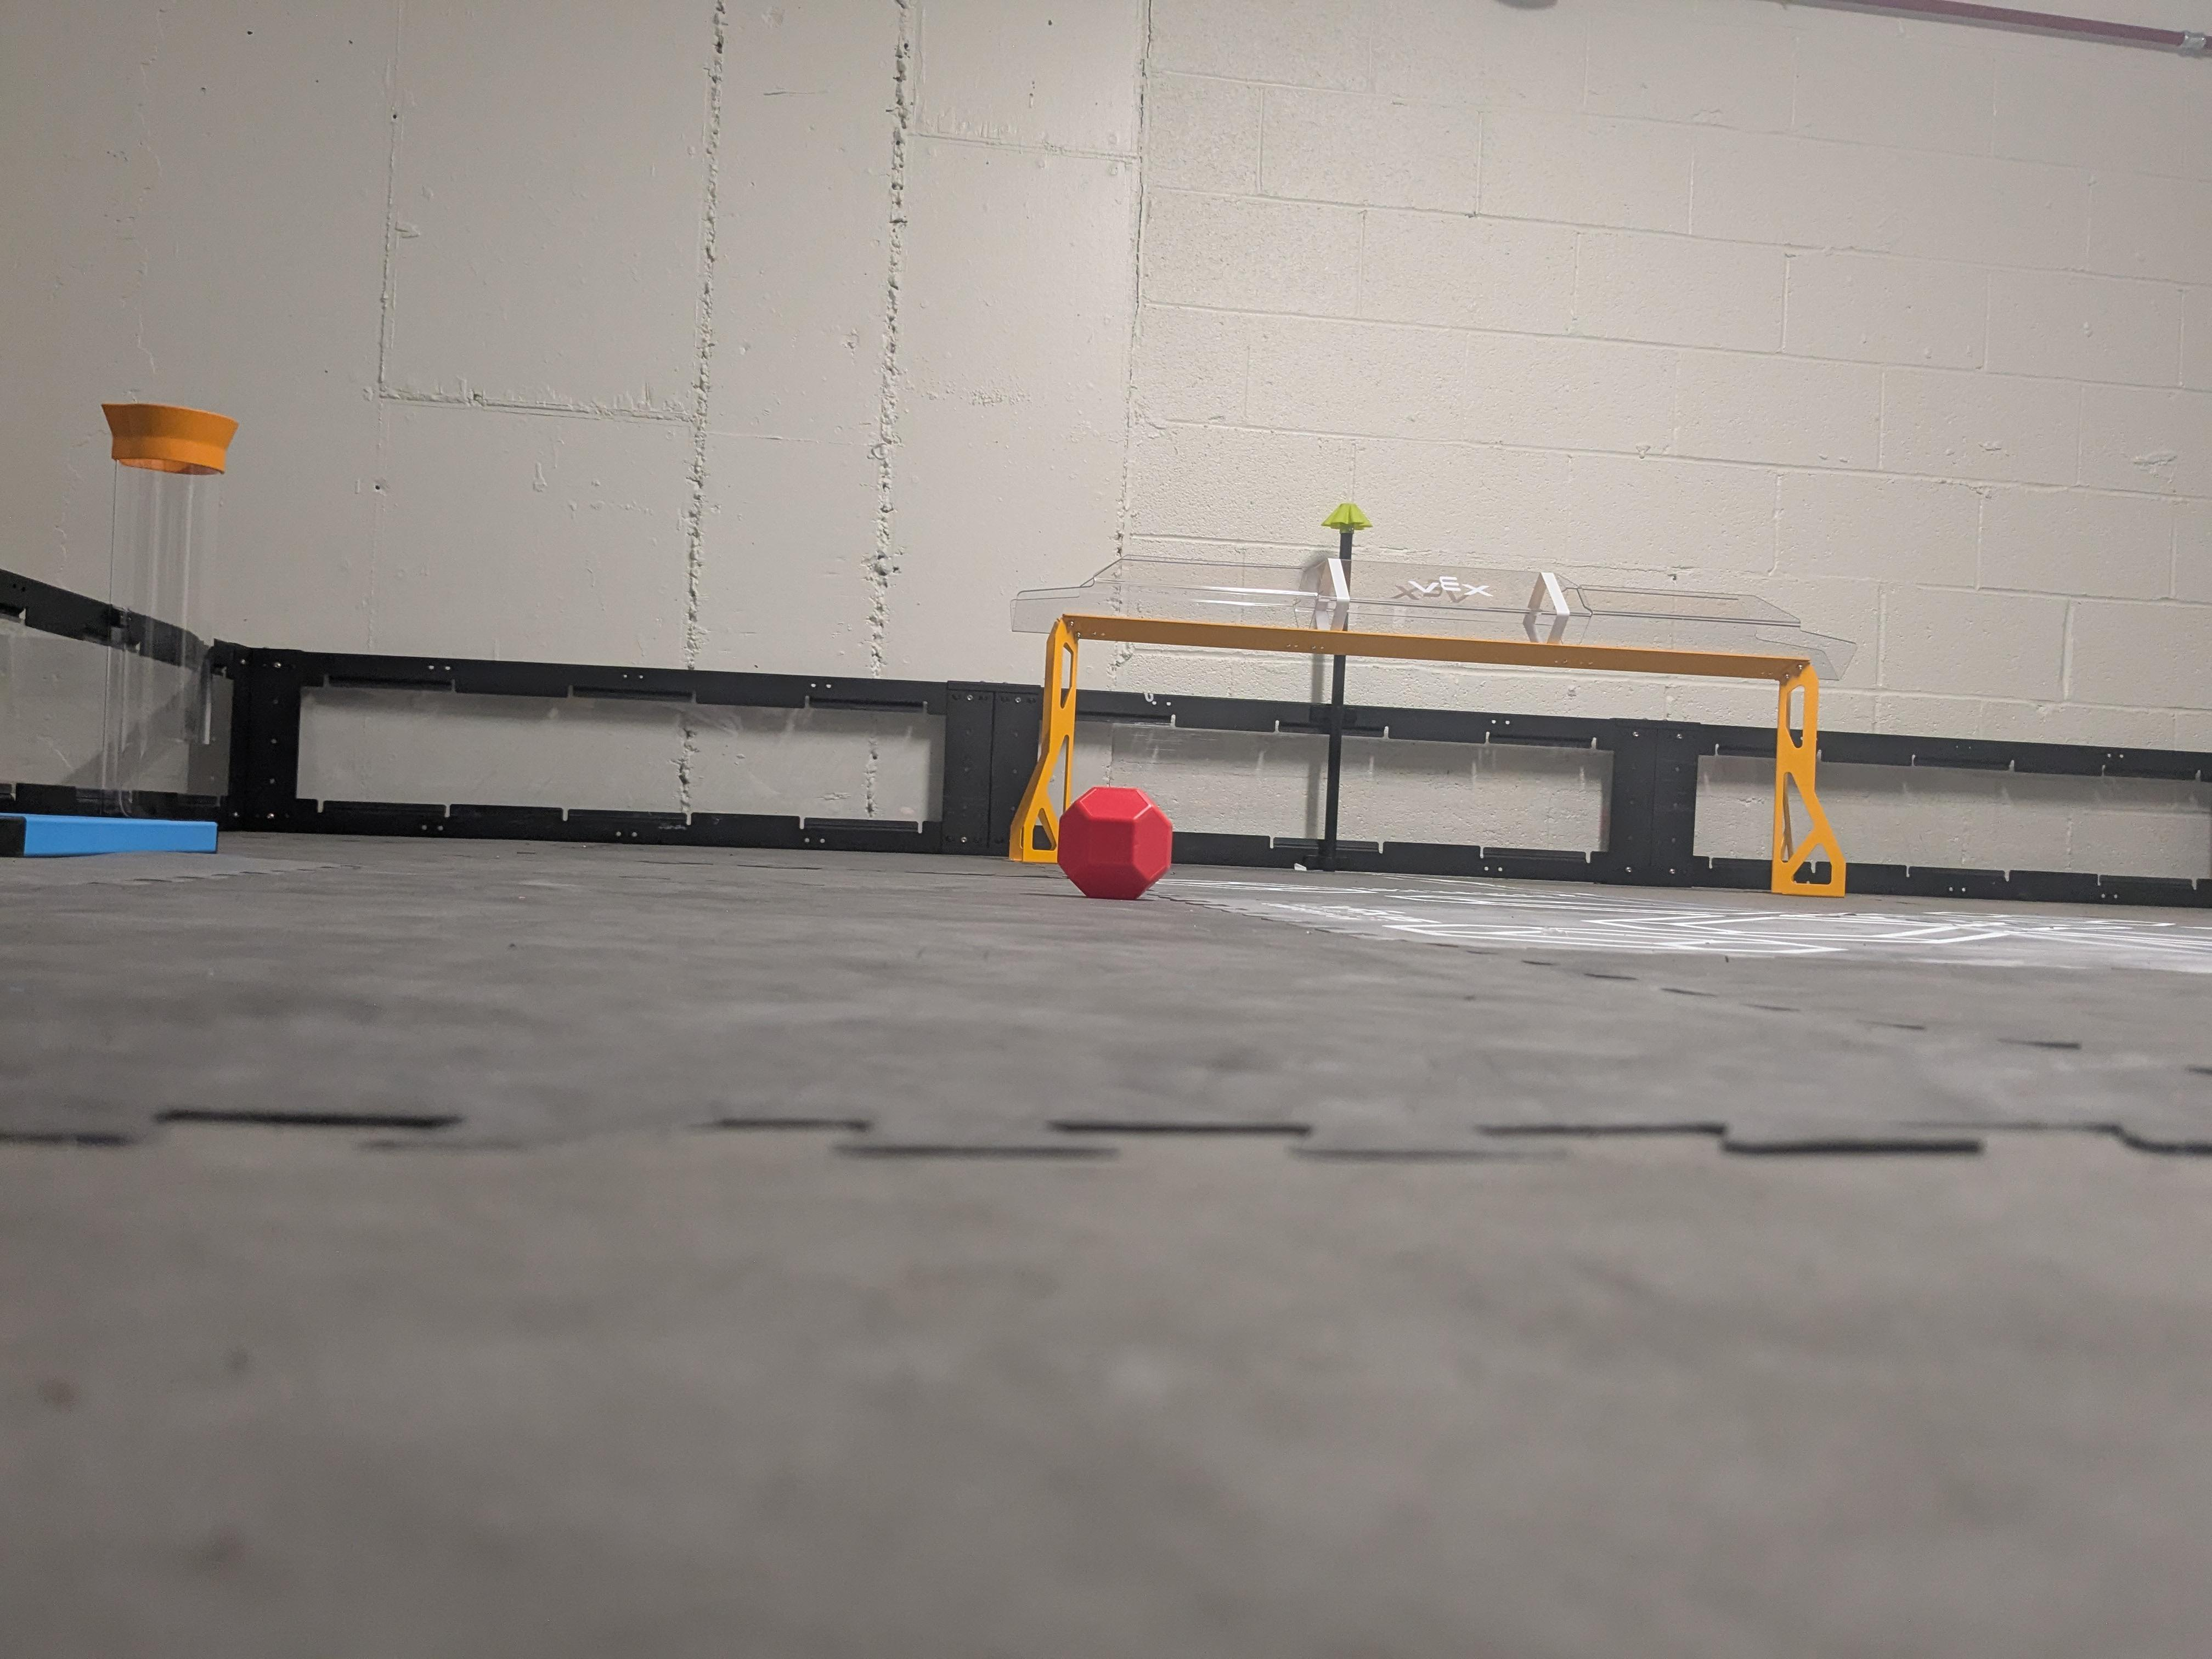Vex-Pieces-RED: (1057, 789, 1170, 899)
